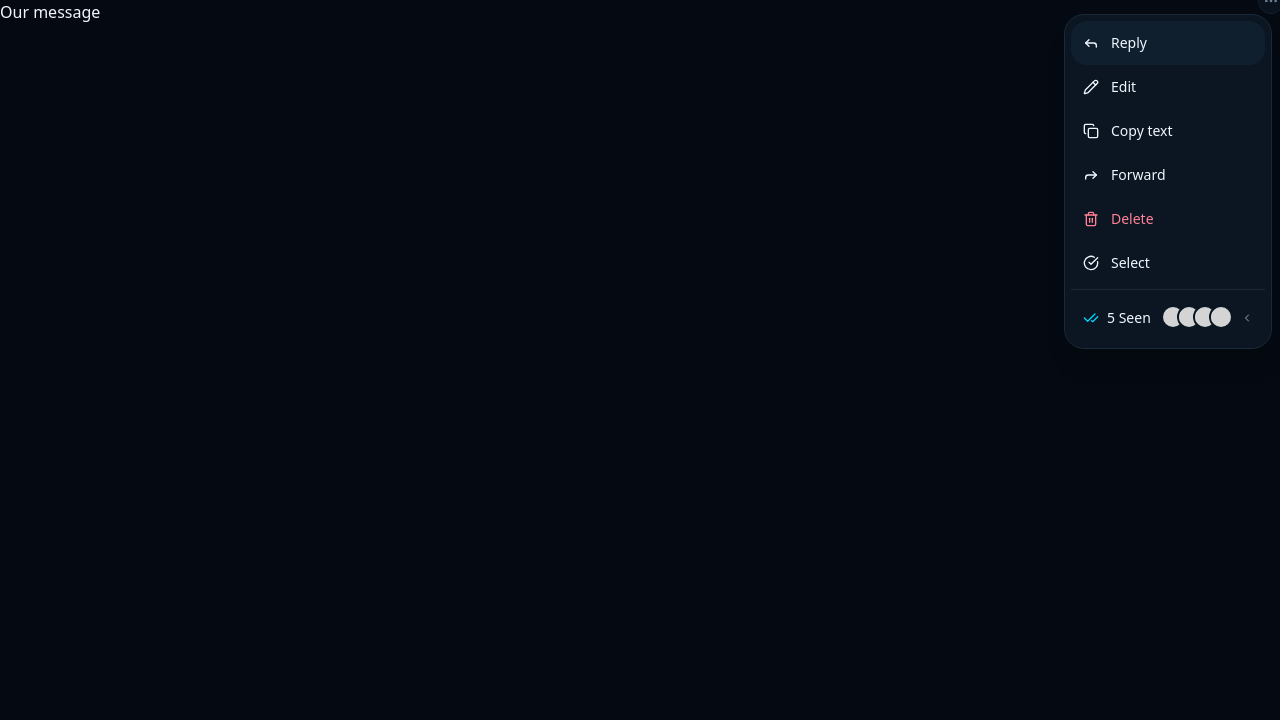
message readers › refreshes reader details when receipts invalidate the cache
Earlier steps of the test are not shown.
Click the menu item with aria-label "5 Seen · View readers" at (1168, 318), box [1071,294,1265,342]
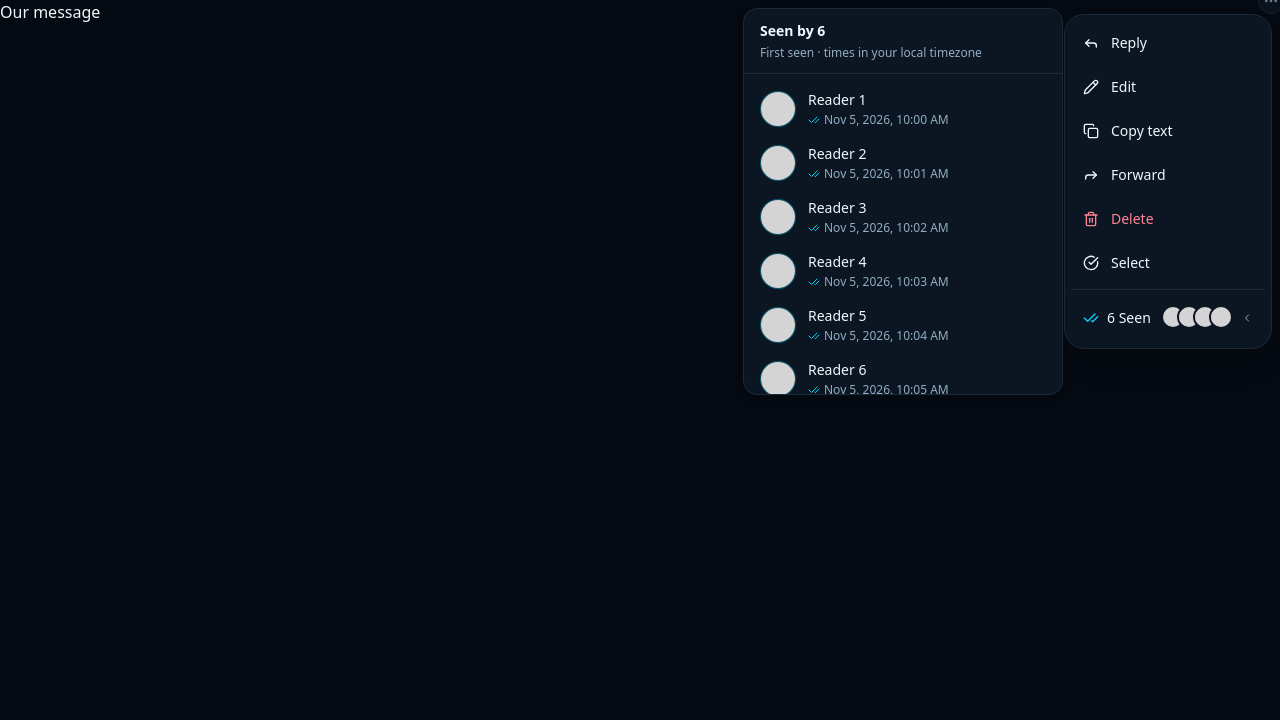
Now the text "Reader 6" is shown, box [808,360,866,379]
